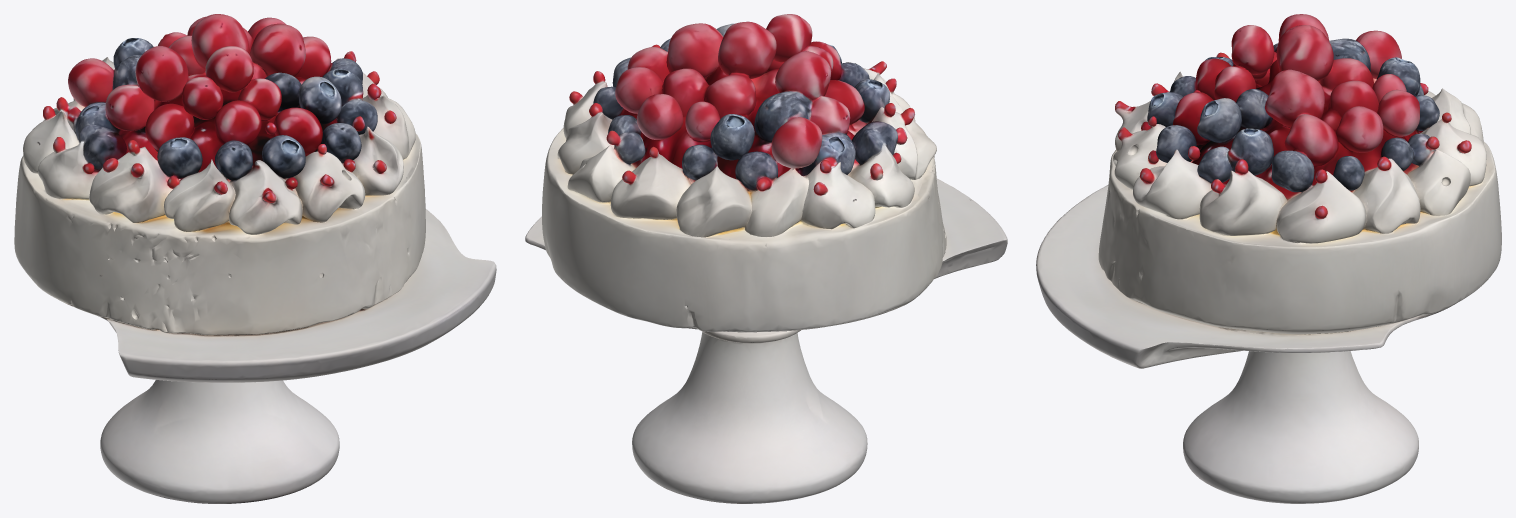
File: cake.glb
The picture shows the model from 3 angles, left to right: view 1: azimuth 30°, elevation 25°; view 2: azimuth 150°, elevation 25°; view 3: azimuth 270°, elevation 25°; orthographic projection.
Parts seen in each view (by area): view 1: model; view 2: model; view 3: model.
Part boxes in pixels (<box>): model: <box>14,14,496,503</box>; model: <box>525,14,1007,503</box>; model: <box>1036,14,1501,503</box>.
Size of the model in its own units: 1.71 by 1.9 by 1.86.
Materials: 1 (1 with a texture image).
